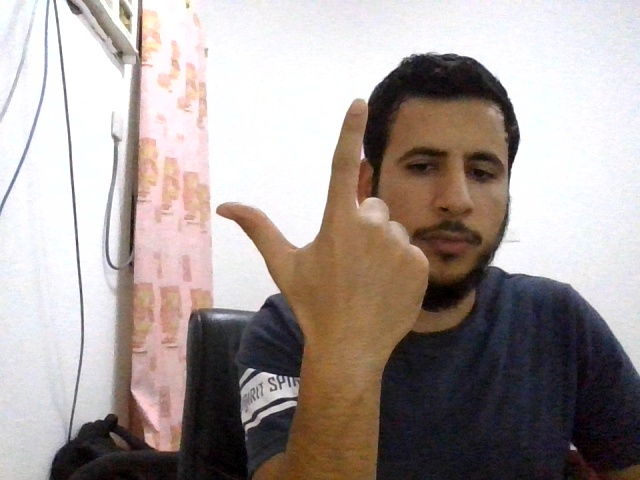Two: (216, 98, 430, 341)
